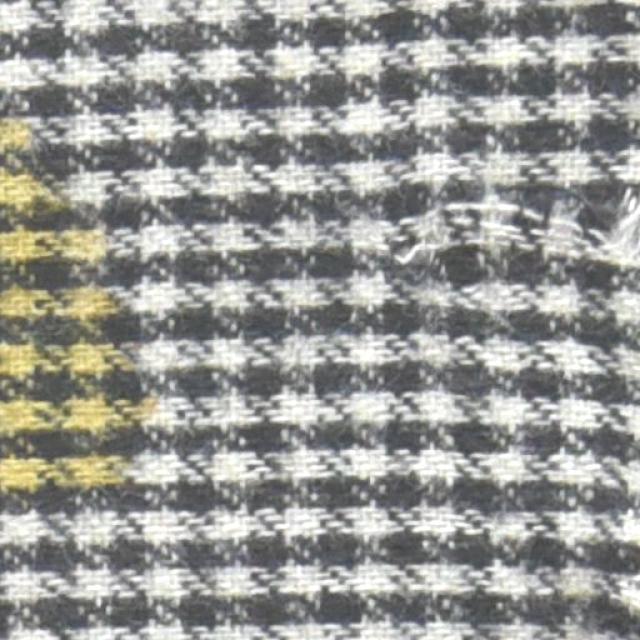Snag: (380, 176, 639, 292)
Stain: (0, 110, 146, 516)
